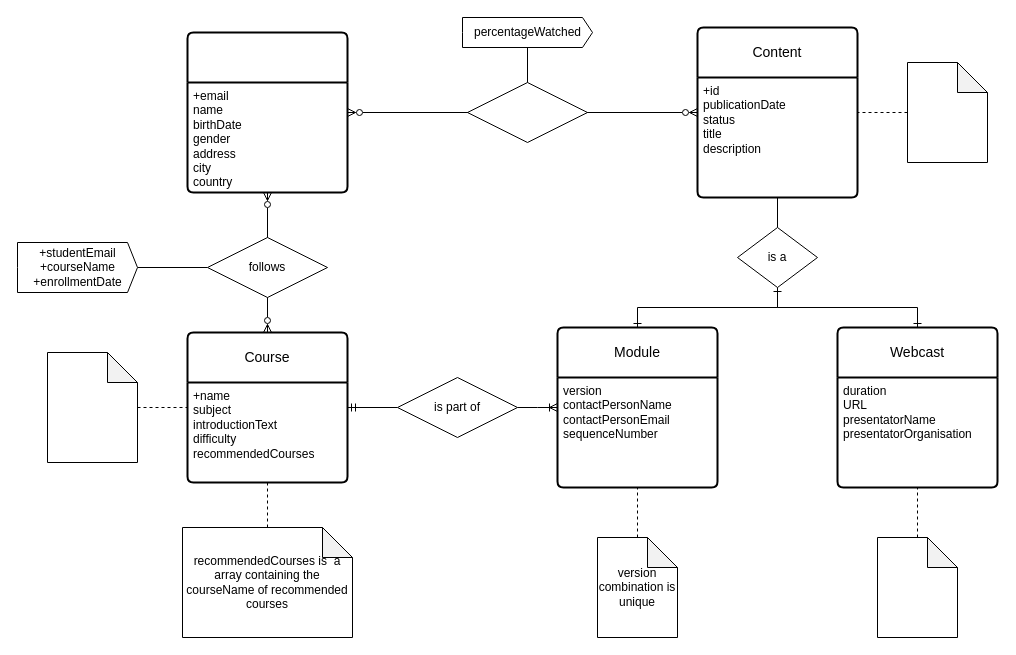
Some shapes in this 1016 by 655 pixel diagram are drawn without their labels. The box of each missing label's shape, as (x1, y1, x2, y2) in pixels:
Enum Difficulty Beginner, Intermediate, Expert: (46, 352, 138, 462)
Enum Status: Concept, Archived, Active: (906, 62, 988, 162)
Student: (186, 31, 348, 193)
title is unique: (876, 536, 958, 638)
watches: (466, 82, 588, 142)
